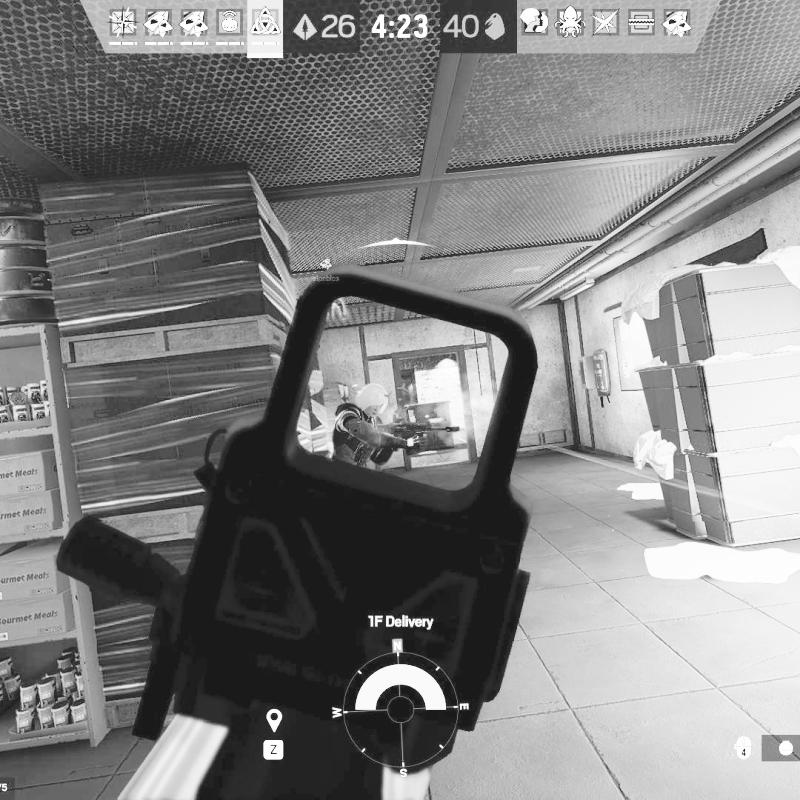Character: (328, 380, 464, 472)
Friend_label: (311, 256, 341, 282)
Head: (355, 382, 390, 420)
